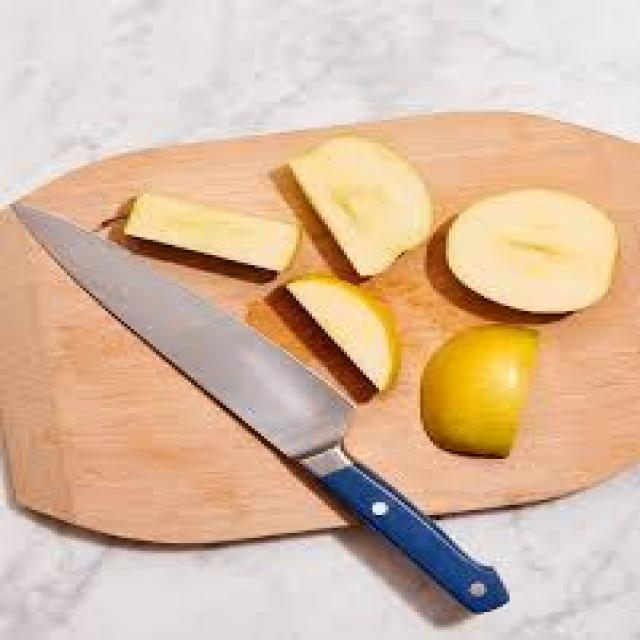Apple: (437, 188, 621, 322), (281, 134, 438, 277), (106, 190, 305, 272), (424, 324, 540, 461), (279, 276, 404, 389)
